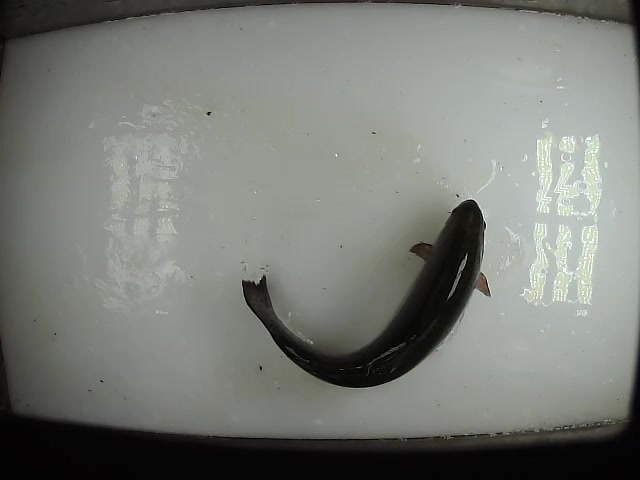fish: (239, 197, 491, 389)
